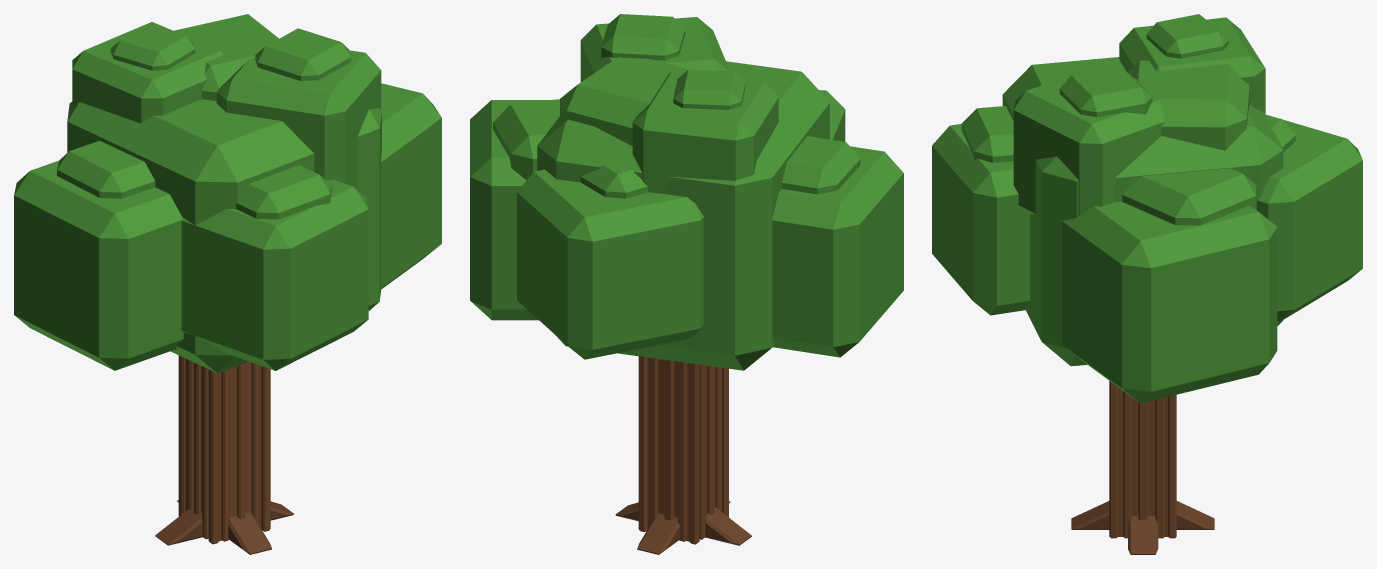
File: Oak2.fbx
3 renders of one model, left to right at view 1: azimuth 30°, elevation 25°; view 2: azimuth 150°, elevation 25°; view 3: azimuth 270°, elevation 25°, orthographic.
Visible parts, largest first — view 1: LeafBlock_2, LeafBlock_4, Leaves, Trunk, LeafBlock_5, LeafBlock_1, LeafBlock_6, Root_3, Root_2; view 2: Leaves, LeafBlock_3, LeafBlock_2, Trunk, LeafBlock_6, LeafBlock_1, LeafBlock_5, Root_1, Root_2, LeafBlock_4; view 3: LeafBlock_1, Leaves, LeafBlock_4, LeafBlock_3, LeafBlock_5, Trunk, LeafBlock_6, Root_4, Root_1, Root_3.
Part boxes in pixels (box(x1,y1,x2,y2)): LeafBlock_2: box(14, 140, 183, 370); LeafBlock_4: box(181, 165, 368, 370); Leaves: box(67, 14, 381, 373); Trunk: box(178, 355, 270, 544); LeafBlock_5: box(216, 28, 381, 189); LeafBlock_1: box(381, 83, 441, 288); LeafBlock_6: box(72, 22, 223, 123); Root_3: box(228, 512, 271, 554); Root_2: box(155, 507, 202, 545); Leaves: box(537, 57, 829, 370); LeafBlock_3: box(517, 165, 703, 359); LeafBlock_2: box(772, 136, 903, 357); Trunk: box(638, 356, 728, 544); LeafBlock_6: box(632, 69, 778, 194); LeafBlock_1: box(470, 99, 559, 320); LeafBlock_5: box(580, 14, 729, 81); Root_1: box(637, 513, 679, 554); Root_2: box(705, 507, 751, 545); LeafBlock_4: box(819, 90, 845, 141); LeafBlock_1: box(1062, 168, 1277, 403); Leaves: box(1002, 57, 1283, 366); LeafBlock_4: box(932, 106, 1030, 315); LeafBlock_3: box(1257, 114, 1362, 322); LeafBlock_5: box(1013, 63, 1165, 216); Trunk: box(1109, 381, 1176, 538); LeafBlock_6: box(1119, 14, 1265, 114); Root_4: box(1128, 516, 1158, 554); Root_1: box(1176, 501, 1214, 529); Root_3: box(1071, 501, 1109, 529).
Bounding box in the file's own units: 20.63 × 23.3 × 19.19.
